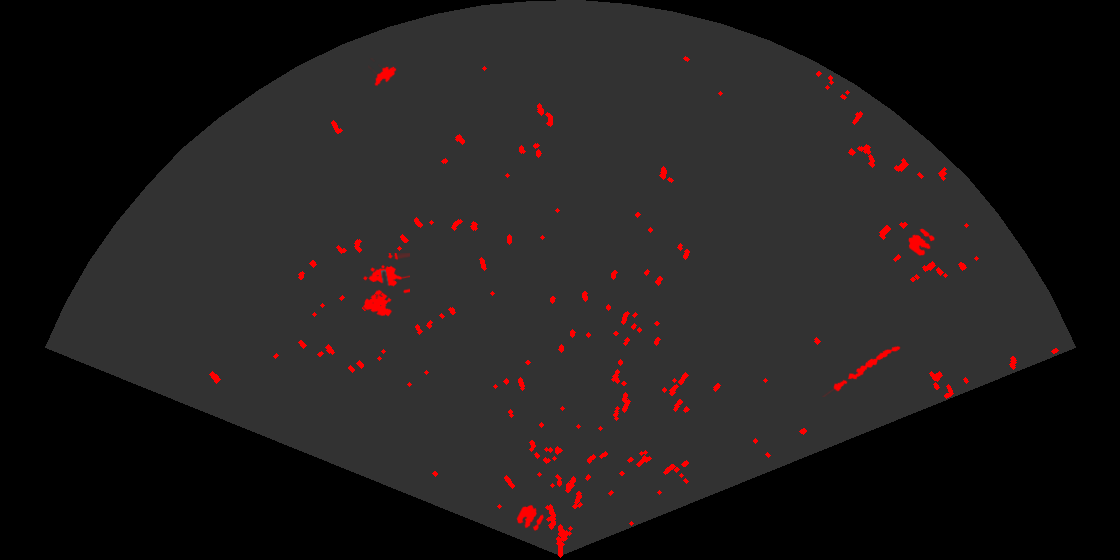AUV: (368, 58, 398, 88)
ball: (515, 503, 545, 532), (907, 227, 936, 257)
cage: (361, 253, 410, 318)
chain: (822, 344, 902, 397)
